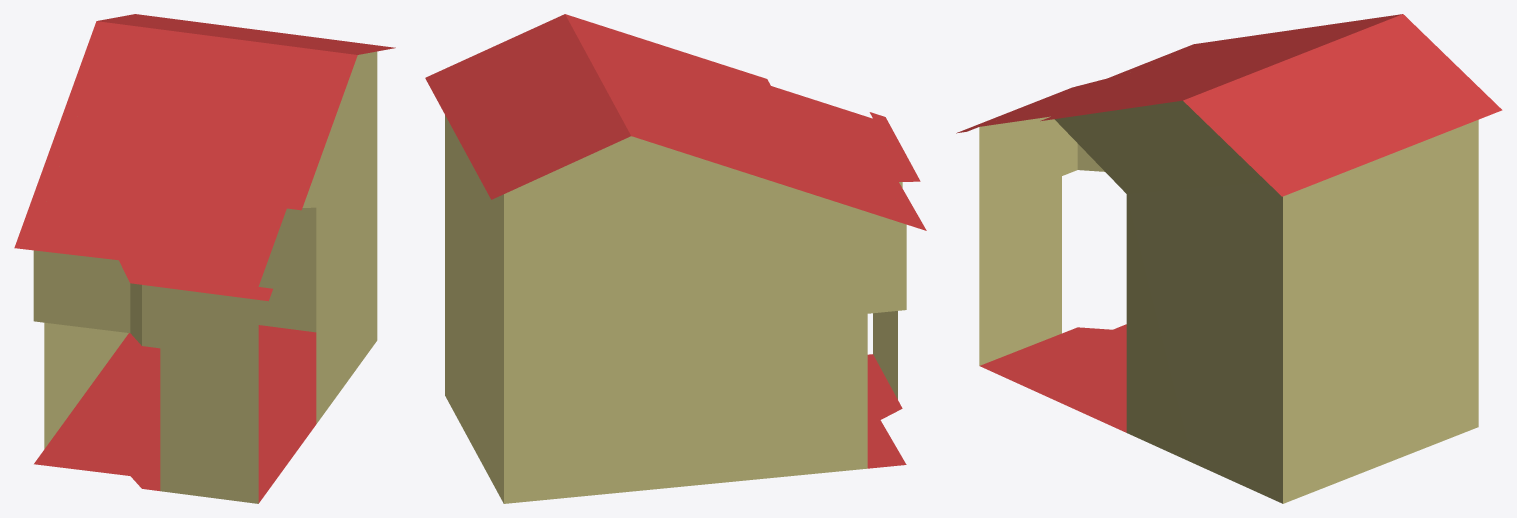
3 views of the same model, side by side, from view 1: azimuth 30°, elevation 25°; view 2: azimuth 150°, elevation 25°; view 3: azimuth 270°, elevation 25° (orthographic). The views are drawn at different scales.
Size of the model in its own units: 15.82 by 16.12 by 11.97.
